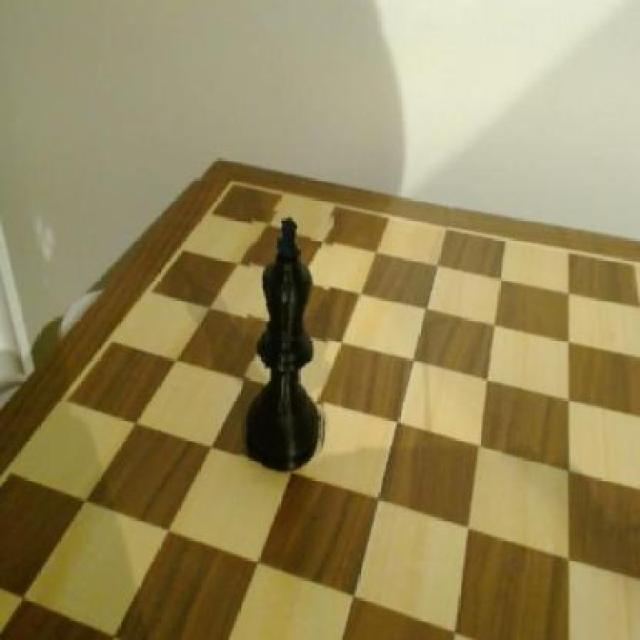black-bishop: (243, 211, 332, 474)
